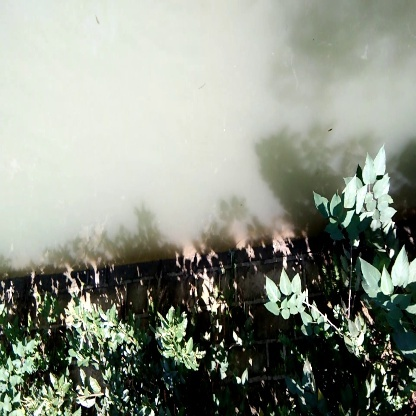grass: (309, 142, 405, 297)
